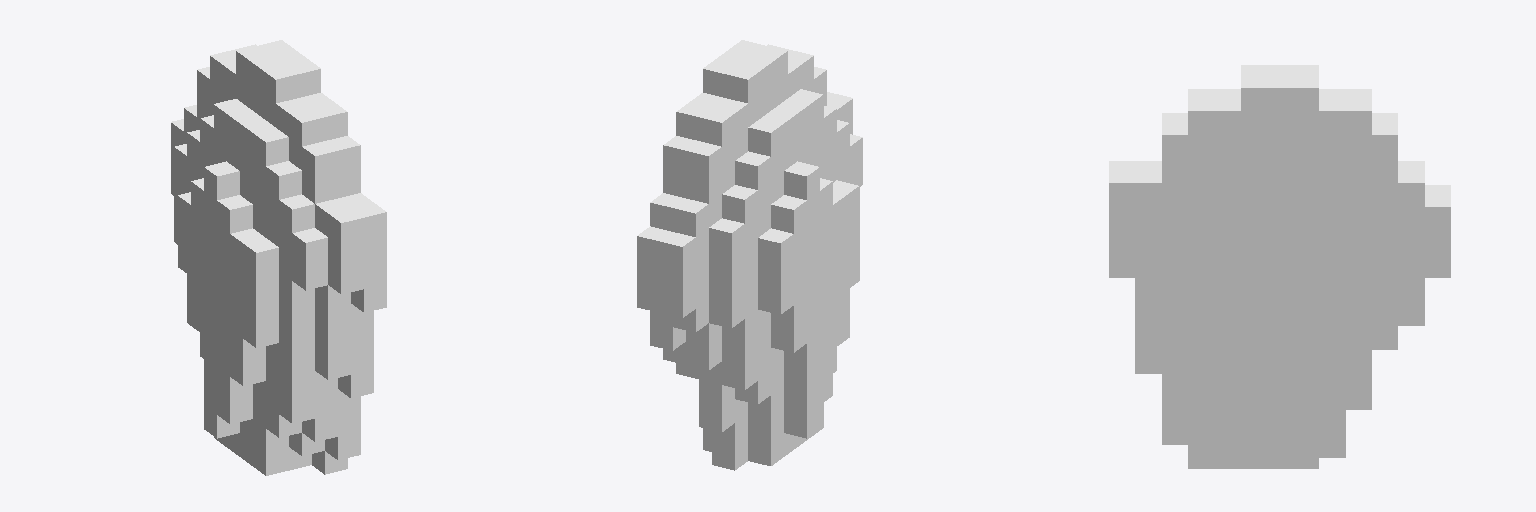
File: Bernard_Leg_Back_Right_Upper.obj
3 views of the same model, side by side, from view 1: azimuth 30°, elevation 25°; view 2: azimuth 150°, elevation 25°; view 3: azimuth 270°, elevation 25° (orthographic).
Parts seen in each view (by area): view 1: Bernard; view 2: Bernard; view 3: Bernard.
Boxes of the visible parts, x1,y1,x2,y2 form: Bernard: [171, 40, 386, 475]; Bernard: [637, 40, 862, 470]; Bernard: [1109, 65, 1450, 468].
Bounding box in the file's own units: 0.4 × 1.6 × 1.3.